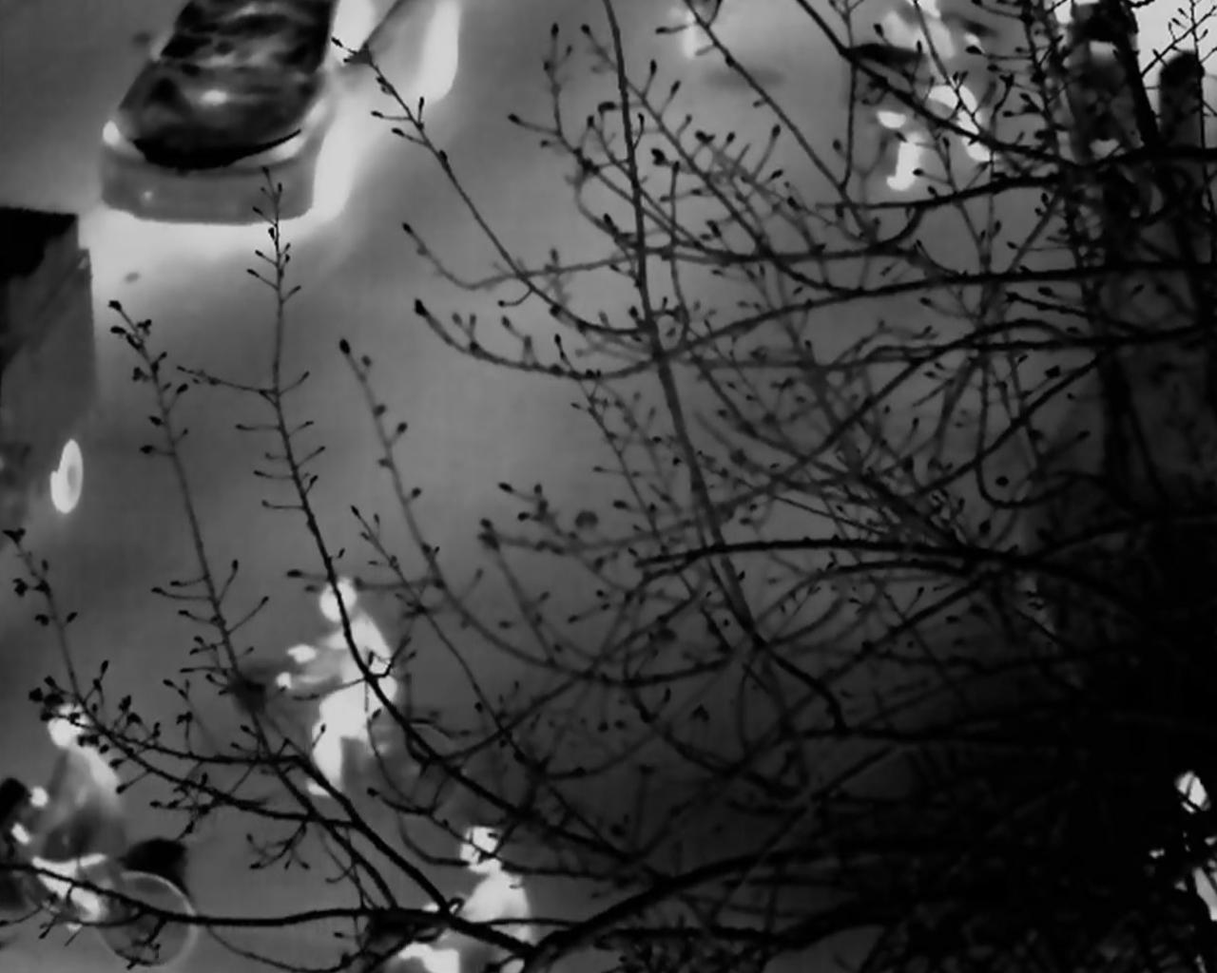person: (295, 574, 396, 800), (15, 694, 118, 891), (417, 825, 549, 973)
